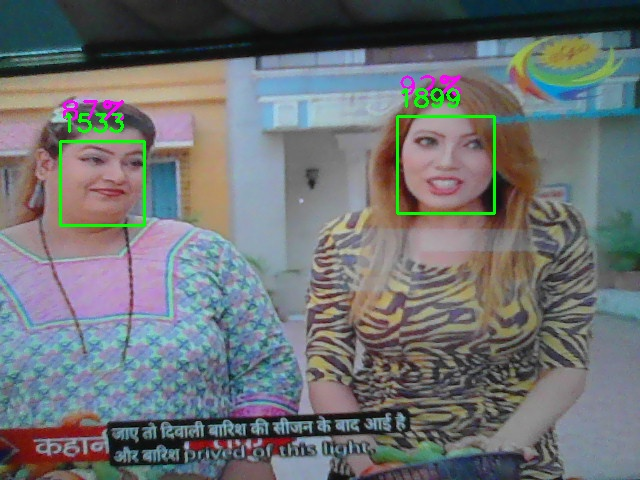fake: (397, 116, 495, 214), (60, 141, 145, 226)
